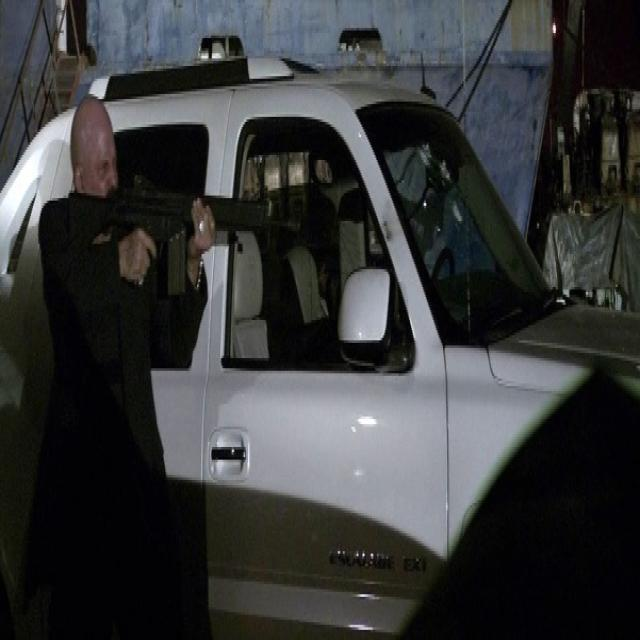rifle: (63, 182, 307, 308)
